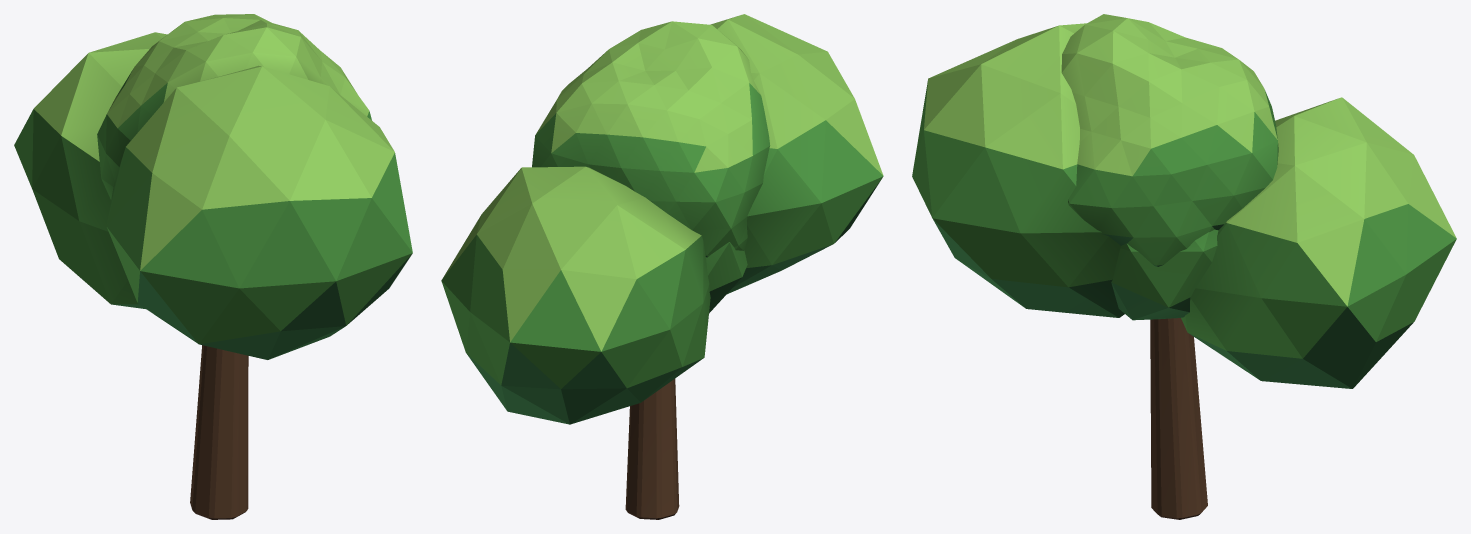
The model's file is tree_broadleaf_a_medium.glb.
3 views of the same model, side by side, from view 1: azimuth 30°, elevation 25°; view 2: azimuth 150°, elevation 25°; view 3: azimuth 270°, elevation 25° (orthographic). The views are drawn at different scales.
Parts seen in each view (by area): view 1: Canopy, Trunk; view 2: Canopy, Trunk; view 3: Canopy, Trunk.
Boxes of the visible parts, x1,y1,x2,y2 form: Canopy: (14,14,412,359); Trunk: (190,345,248,519); Canopy: (441,14,883,424); Trunk: (625,379,679,519); Canopy: (912,14,1456,388); Trunk: (1150,318,1207,519).
Bounding box in the file's own units: 4.86 × 7.61 × 7.75.
1 material, 1 textured.
